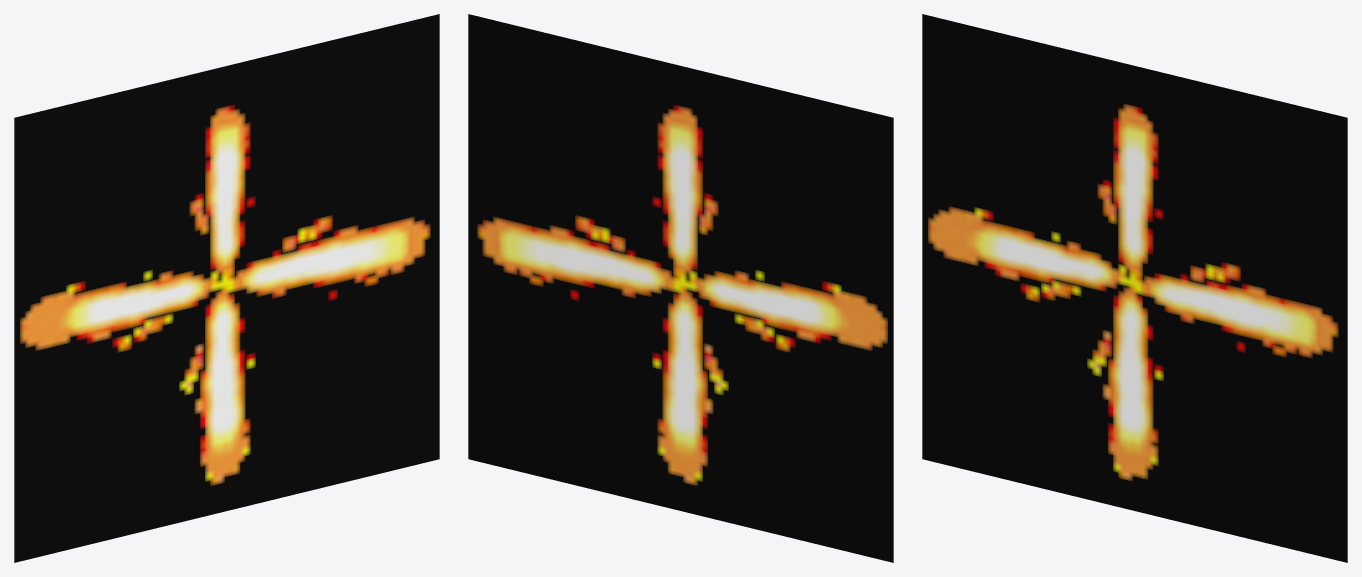
File: muzzle_flash-named-nodes.glb
The picture shows the model from 3 angles, left to right: view 1: azimuth 30°, elevation 25°; view 2: azimuth 150°, elevation 25°; view 3: azimuth 330°, elevation 25°; orthographic projection.
Parts seen in each view (by area): view 1: frame_0; view 2: frame_0; view 3: frame_0.
Part boxes in pixels (box(x1,y1,x2,y2)): frame_0: box(14, 14, 439, 562); frame_0: box(468, 14, 893, 562); frame_0: box(922, 14, 1347, 562).
Size of the model in its own units: 144 by 144 by 3.19e-14.
Materials: 1 (1 with a texture image).
